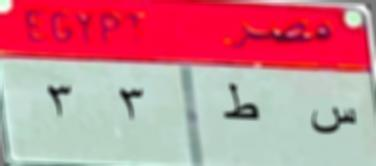3: (42, 77, 76, 124), (118, 82, 146, 122)
Taa: (216, 80, 261, 130)
seen: (305, 99, 363, 137)
